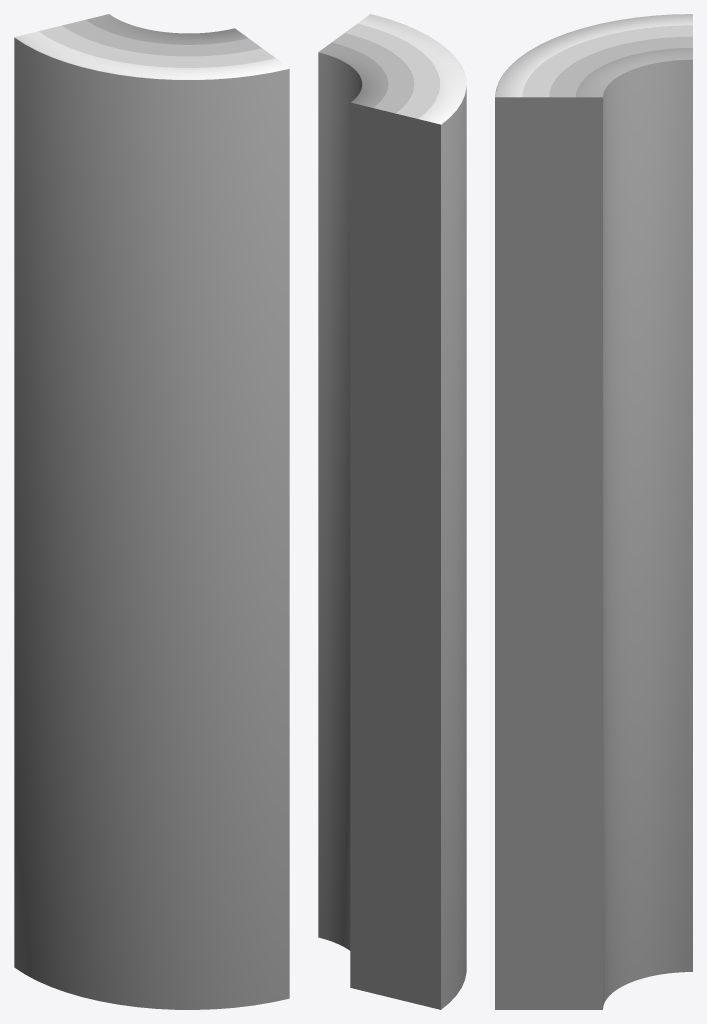
Rendered from road_turn_10_left.FBX.
3 renders of one model, left to right at view 1: azimuth 30°, elevation 25°; view 2: azimuth 150°, elevation 25°; view 3: azimuth 270°, elevation 25°, orthographic. The views are drawn at different scales.
Parts seen in each view (by area): view 1: road_turn_10_left; view 2: road_turn_10_left; view 3: road_turn_10_left.
Boxes of the visible parts, x1,y1,x2,y2 form: road_turn_10_left: [14, 14, 289, 1009]; road_turn_10_left: [318, 14, 466, 1009]; road_turn_10_left: [495, 14, 692, 1009].
Bounding box in the file's own units: 22 × 112 × 22.
Materials: 1 (1 with a texture image).
